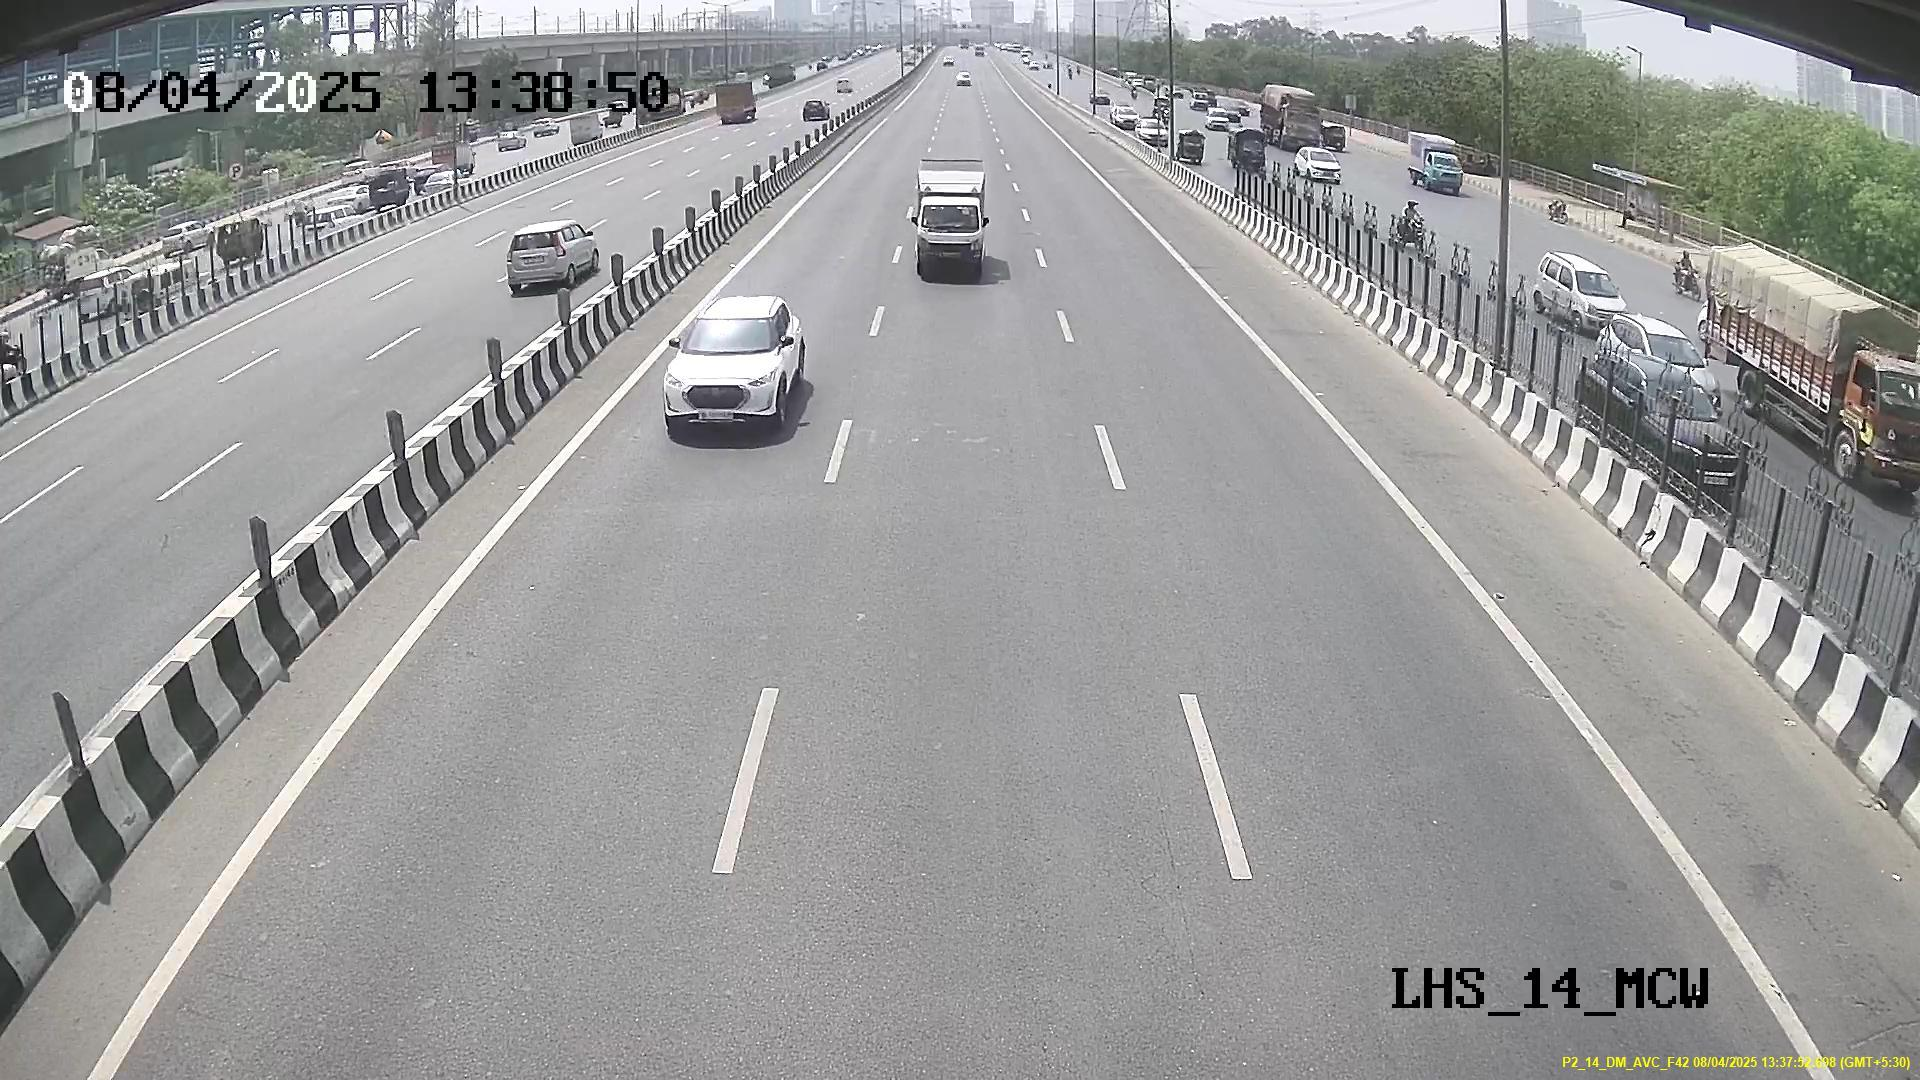car: (658, 302, 811, 439), (911, 170, 988, 280)
